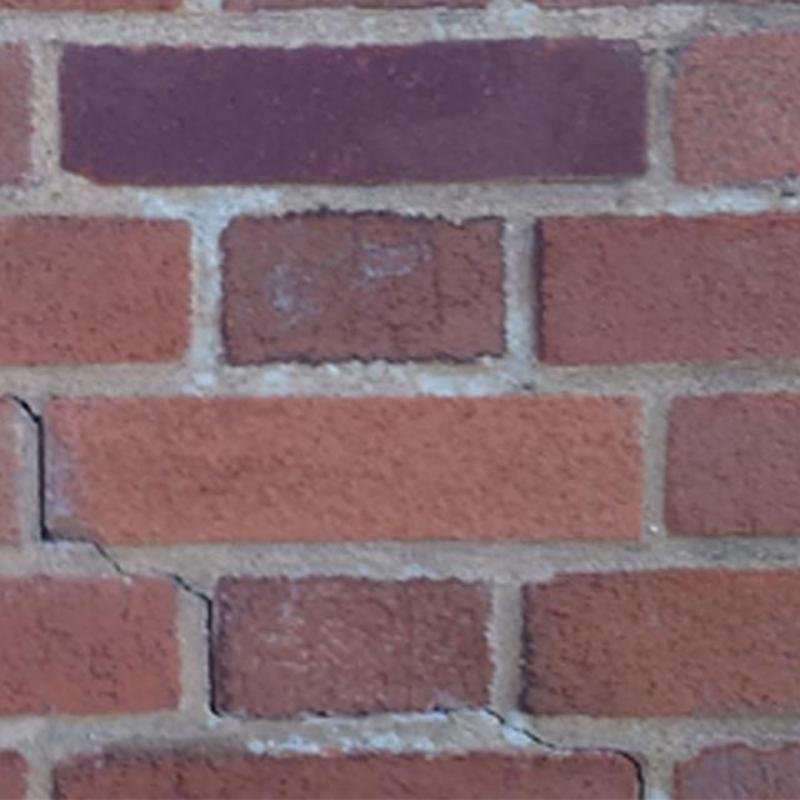crack: (9, 395, 124, 575), (509, 725, 646, 799), (170, 573, 223, 717), (484, 706, 505, 727)
